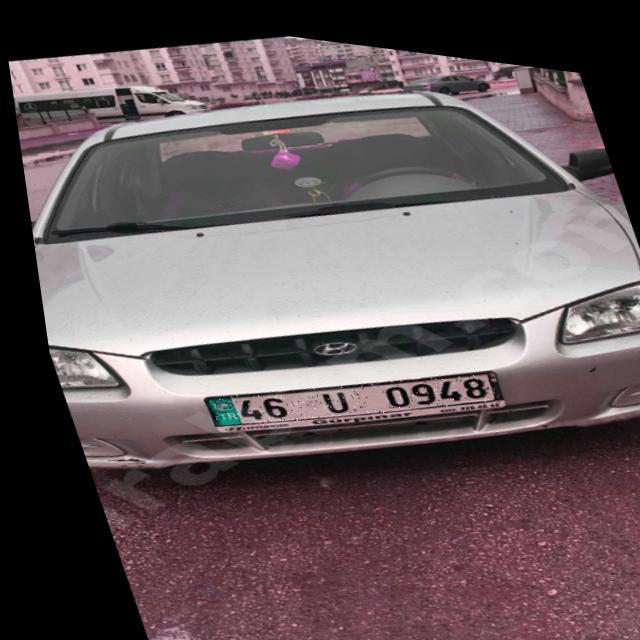license_plate: (187, 331, 499, 452)
